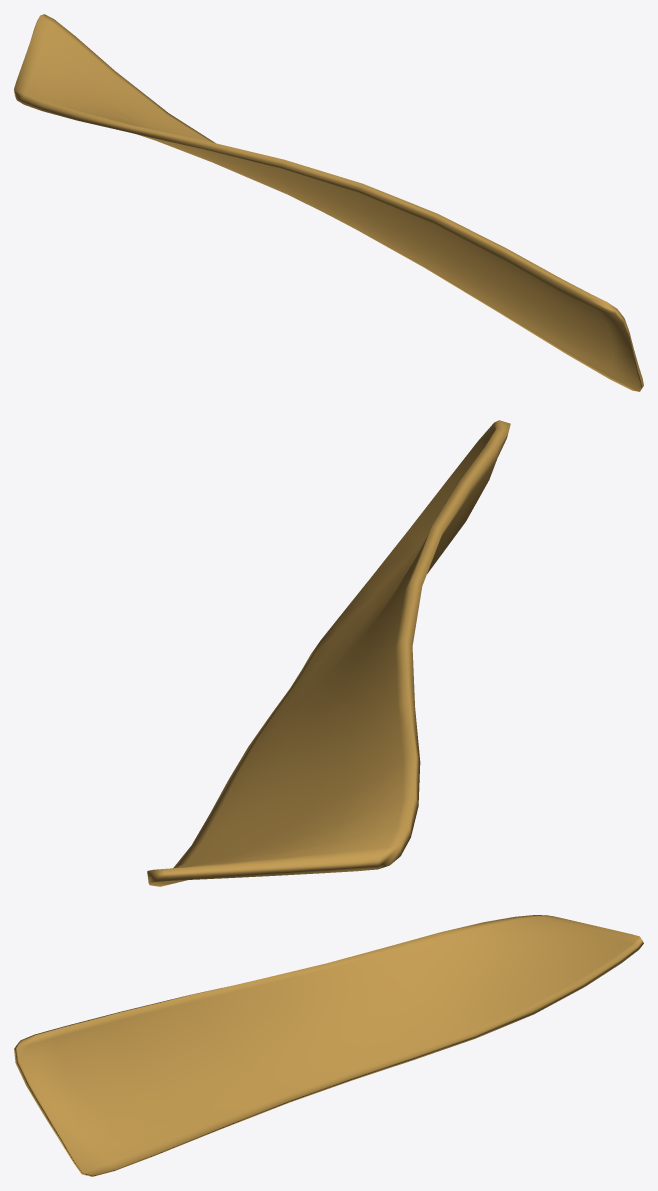
3 views of the same model, one above another, from view 1: azimuth 30°, elevation 25°; view 2: azimuth 150°, elevation 25°; view 3: azimuth 270°, elevation 25° (orthographic). The views are drawn at different scales.
Visible parts, largest first — view 1: 右侧髂股韧带横部; view 2: 右侧髂股韧带横部; view 3: 右侧髂股韧带横部.
Part boxes in pixels (bbox=[...]): 右侧髂股韧带横部: bbox=[14, 14, 643, 391]; 右侧髂股韧带横部: bbox=[147, 420, 510, 886]; 右侧髂股韧带横部: bbox=[14, 915, 643, 1176].
Bounding box in the file's own units: 0.0371 × 0.0192 × 0.0758.
